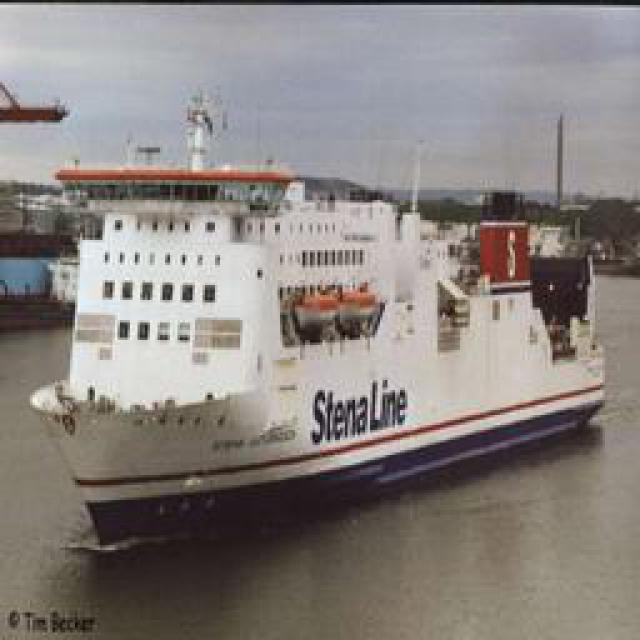Ship: (30, 158, 618, 546)
